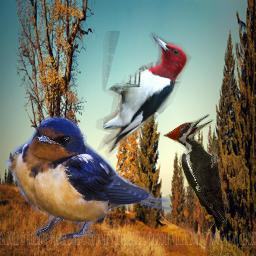Swallow: (5, 115, 172, 243)
Woodpecker: (94, 31, 194, 158), (163, 114, 227, 231)
